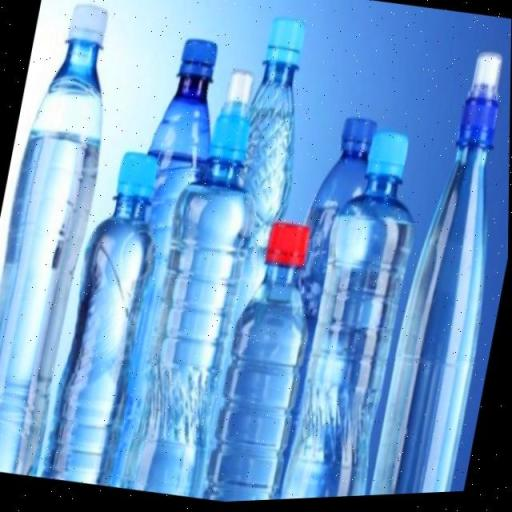plastic: (120, 61, 283, 503), (364, 43, 512, 499), (0, 0, 130, 479), (278, 121, 437, 502), (40, 141, 178, 490), (202, 214, 332, 504)
